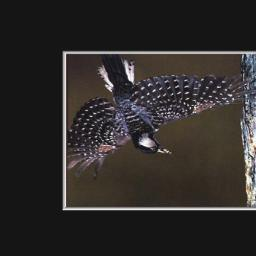Woodpecker: (66, 56, 256, 176)
